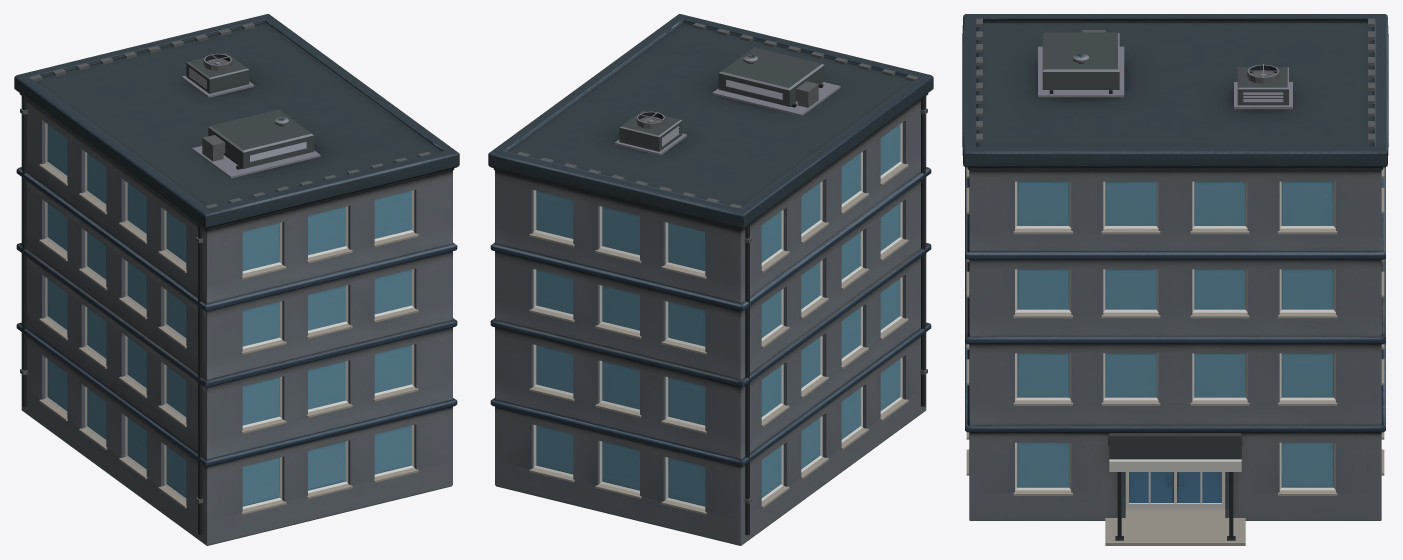
The model's file is office-apartment-crafted.glb.
3 renders of one model, left to right at view 1: azimuth 30°, elevation 25°; view 2: azimuth 150°, elevation 25°; view 3: azimuth 270°, elevation 25°, orthographic. The views are drawn at different scales.
Visible parts, largest first — view 1: tripo_node_da878c89-f8e0-4aef-8efa-ad18b47edced; view 2: tripo_node_da878c89-f8e0-4aef-8efa-ad18b47edced; view 3: tripo_node_da878c89-f8e0-4aef-8efa-ad18b47edced.
Boxes of the visible parts, x1,y1,x2,y2 form: tripo_node_da878c89-f8e0-4aef-8efa-ad18b47edced: (14,14,459,545); tripo_node_da878c89-f8e0-4aef-8efa-ad18b47edced: (488,14,933,545); tripo_node_da878c89-f8e0-4aef-8efa-ad18b47edced: (962,14,1388,545).
Size of the model in its own units: 0.863 by 1 by 0.9648.
1 material, 1 textured.
